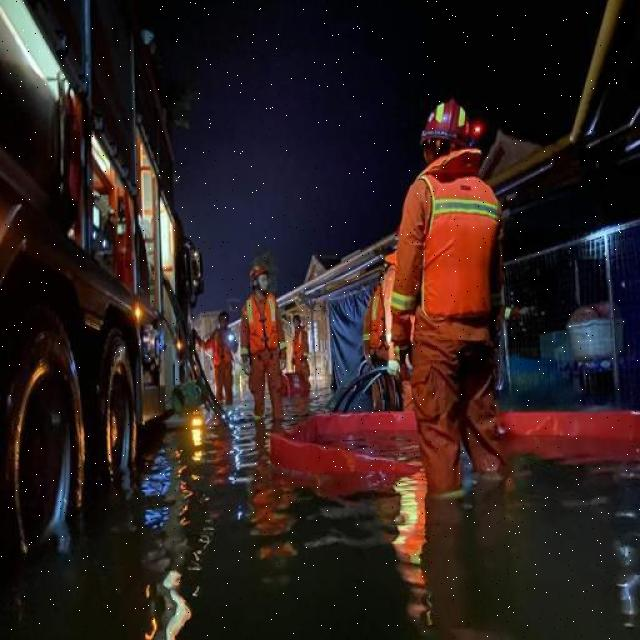rescuer: (385, 92, 542, 530), (230, 252, 311, 434)
